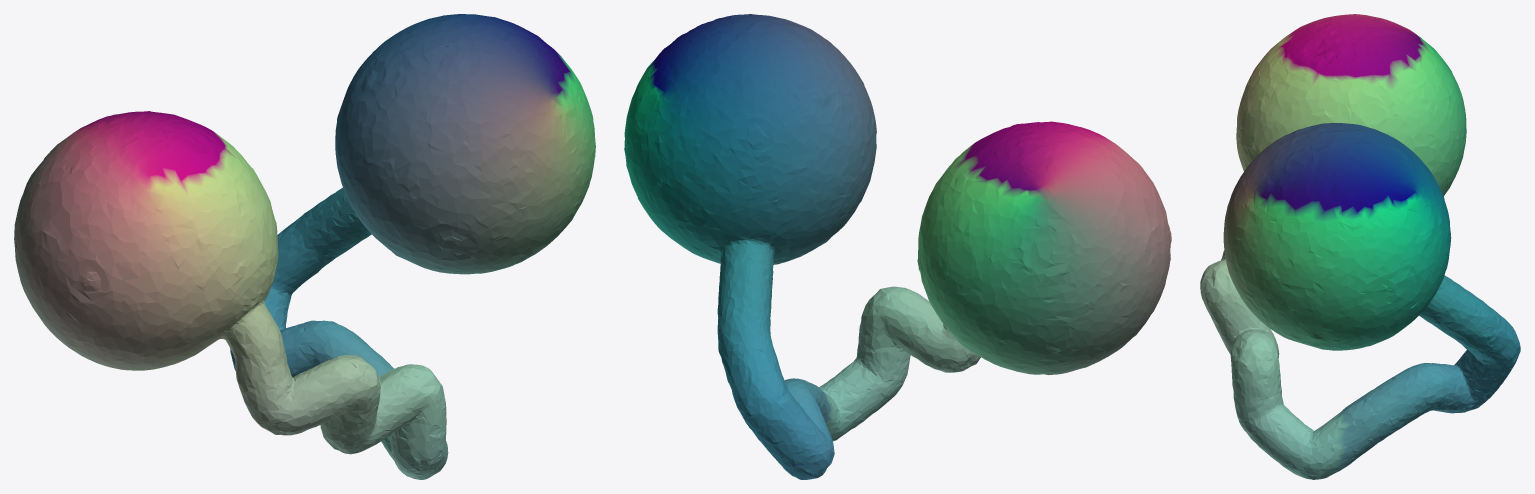
File: twoballs-14.off.obj
3 views of the same model, side by side, from view 1: azimuth 30°, elevation 25°; view 2: azimuth 150°, elevation 25°; view 3: azimuth 270°, elevation 25° (orthographic). The views are drawn at different scales.
Bounding box in the file's own units: 1.73 × 1.31 × 1.03.
